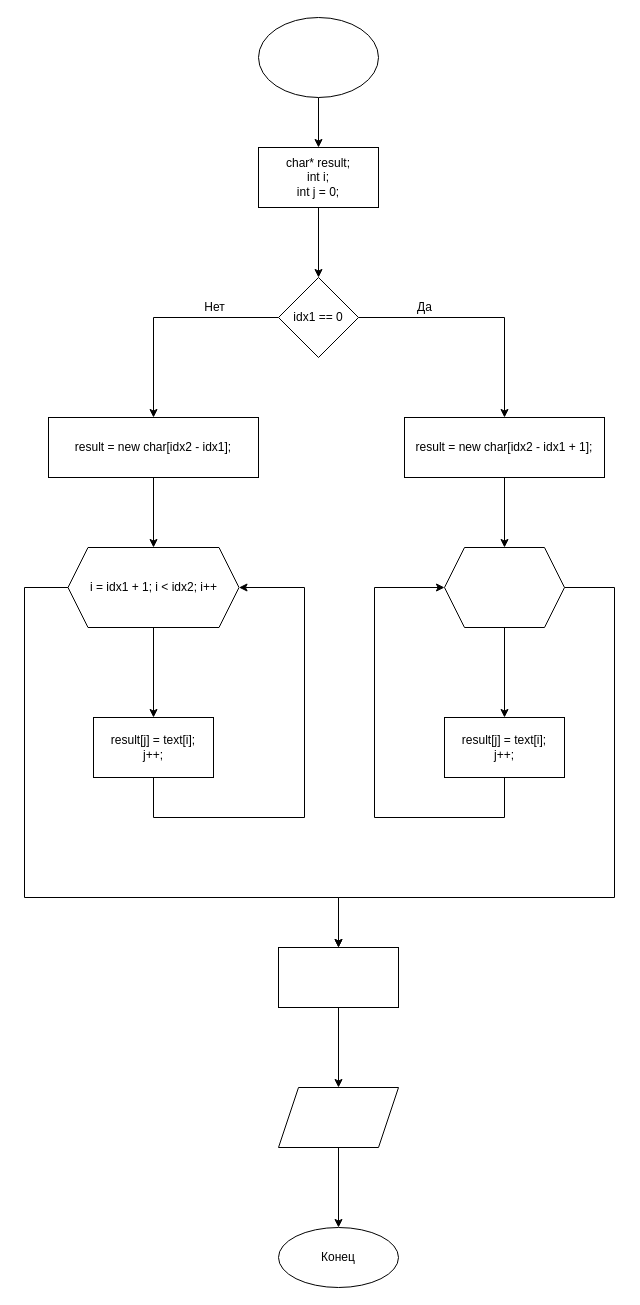
This 640x1305 diagram has some shape labels left out. The shapes that lost their labels are listed below. From the top down, each one's centre as x and y in pixels, then its label:
At point (318, 57): "Начало".
At point (504, 587): "i = idx1; i < idx2; i++".
At point (338, 977): "wordsize = j;".
At point (338, 1117): "return result;".
